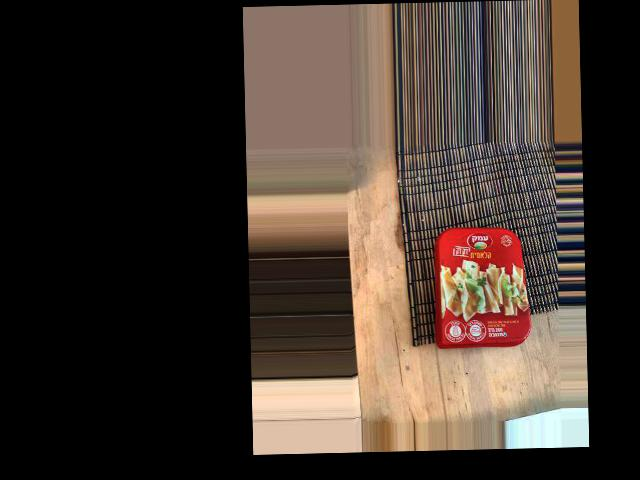cheese: (427, 174, 566, 262)
